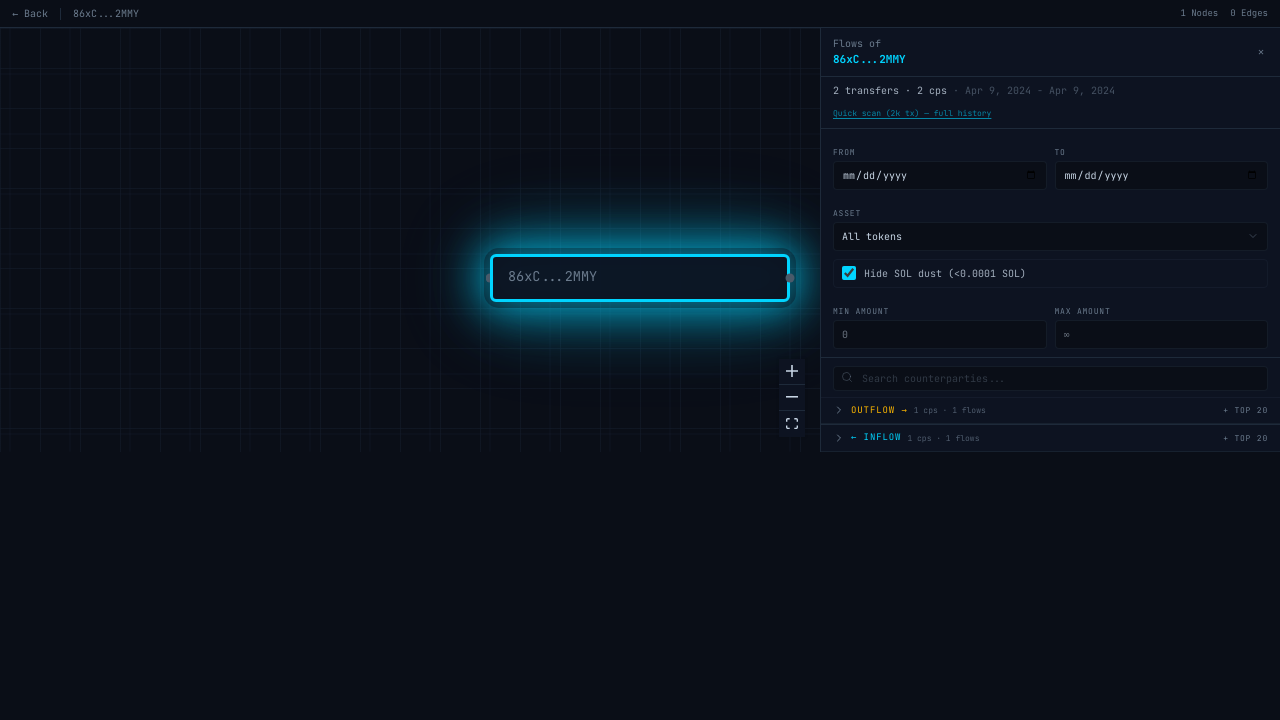
Test case: TraceExplorer › starts with both outflow and inflow groups collapsed
The width and height of the screenshot is (1280, 720).
expect the text "Outflow Sender" is not shown: met
Click the text "Outflow →": {"x": 879, "y": 410} top-left (851, 404), bottom-right (908, 417)
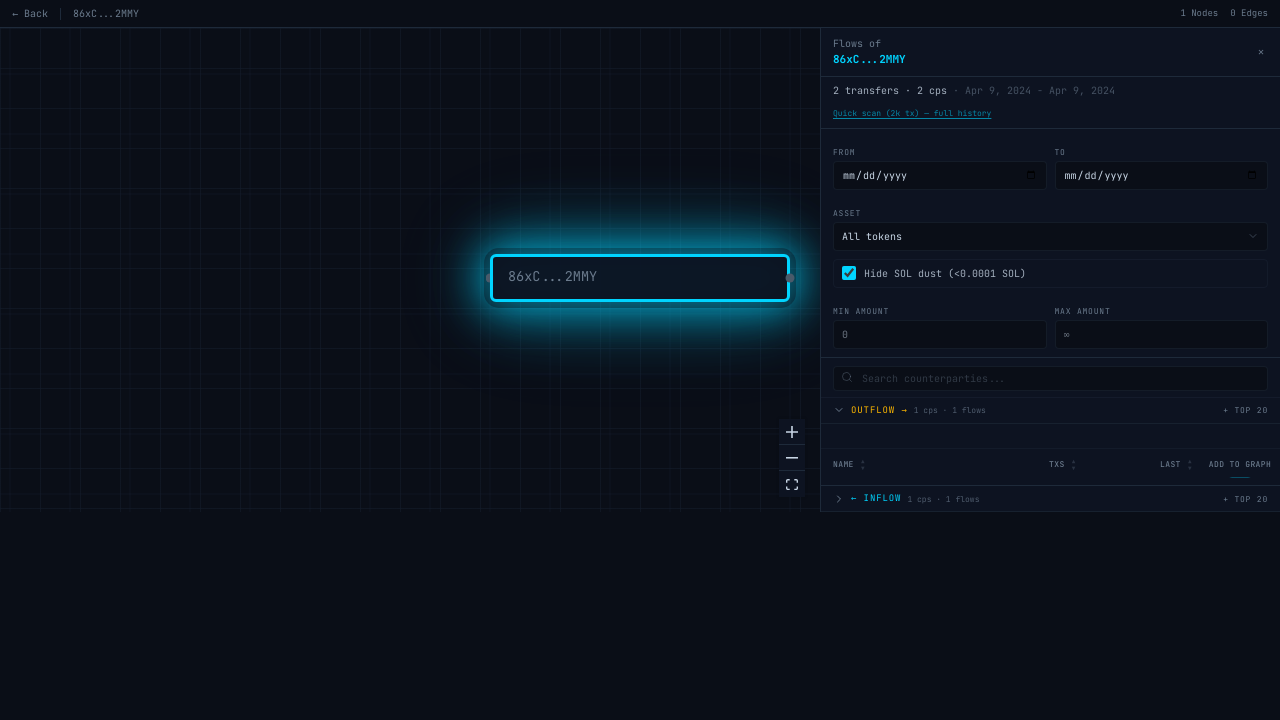
expect the text "Outflow Sender" is shown: met, box top-left (849, 454), bottom-right (925, 467)
